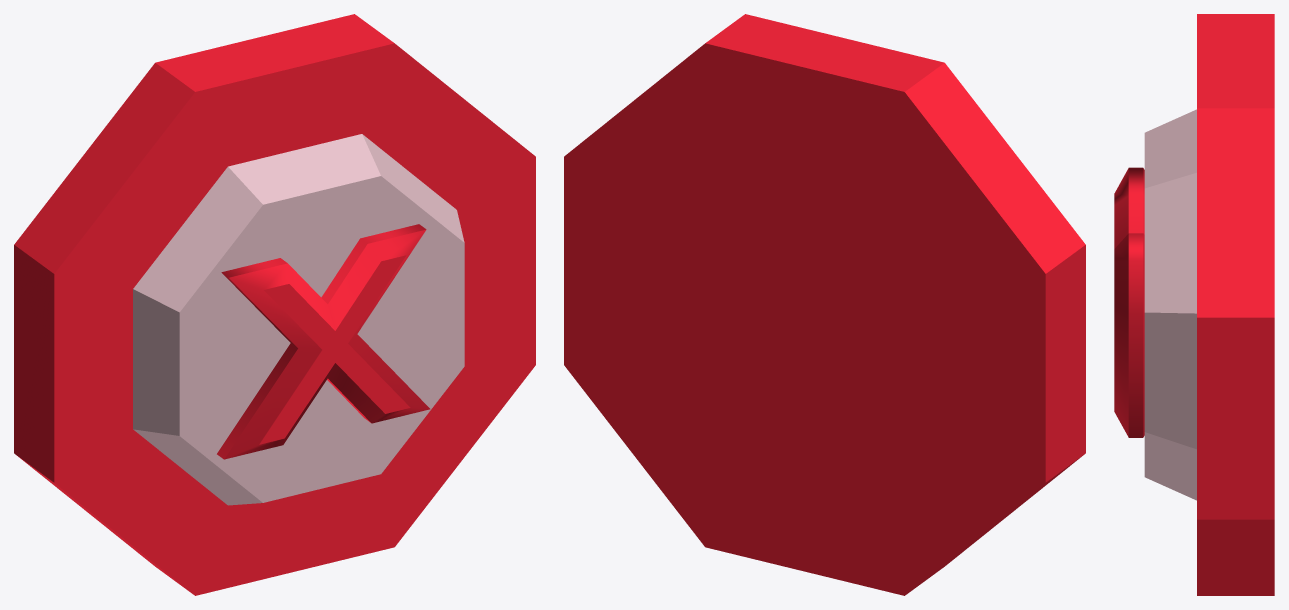
The model's file is X Button.fbx.
3 views of the same model, side by side, from view 1: azimuth 30°, elevation 25°; view 2: azimuth 150°, elevation 25°; view 3: azimuth 270°, elevation 25° (orthographic). The views are drawn at different scales.
Visible parts, largest first — view 1: X Button; view 2: X Button; view 3: X Button.
Boxes of the visible parts, x1,y1,x2,y2 form: X Button: (14, 14, 535, 595); X Button: (564, 14, 1085, 595); X Button: (1114, 14, 1274, 595).
Size of the model in its own units: 70.82 by 70.82 by 21.08.
